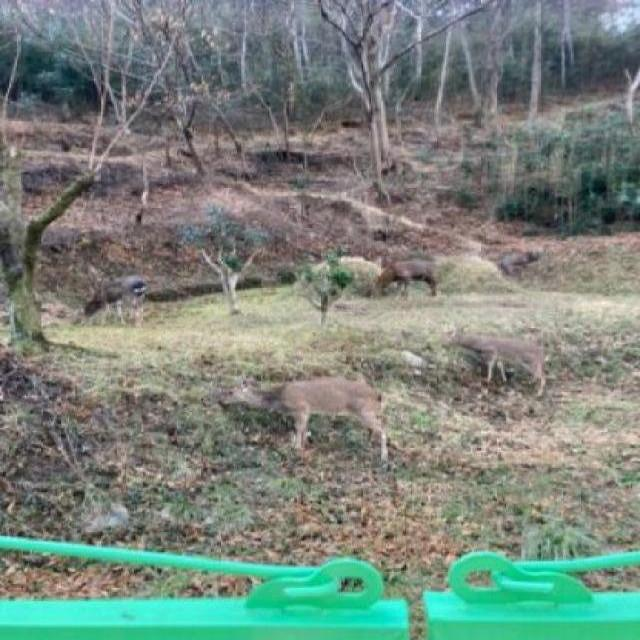deer: (218, 374, 396, 463), (438, 322, 554, 401)
